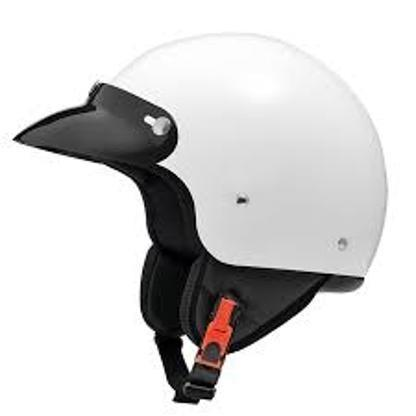not trash: (13, 33, 391, 409)
